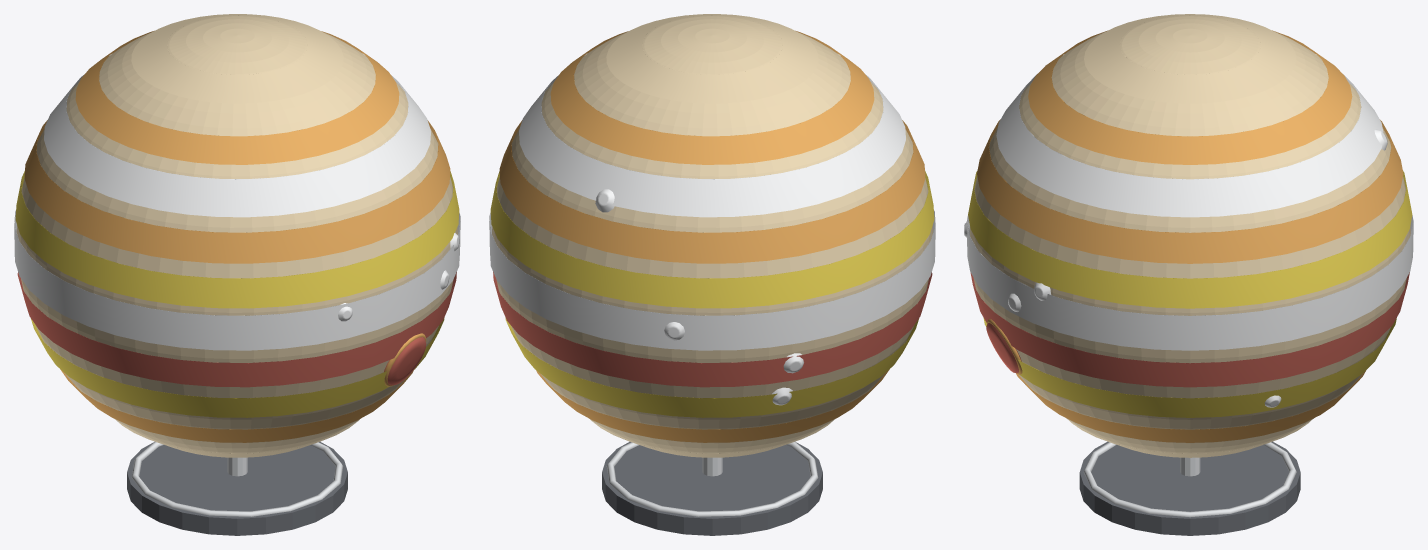
Rendered from solar-system-and-astronauts-jupiter-model-1c5aca75__39231.glb.
3 renders of one model, left to right at view 1: azimuth 30°, elevation 25°; view 2: azimuth 150°, elevation 25°; view 3: azimuth 270°, elevation 25°, orthographic.
Parts seen in each view (by area): view 1: jupiter-model; view 2: jupiter-model; view 3: jupiter-model.
Boxes of the visible parts, x1,y1,x2,y2 form: jupiter-model: [14, 14, 460, 535]; jupiter-model: [489, 14, 935, 535]; jupiter-model: [964, 14, 1413, 535].
Size of the model in its own units: 0.7083 by 0.7934 by 0.7121.
